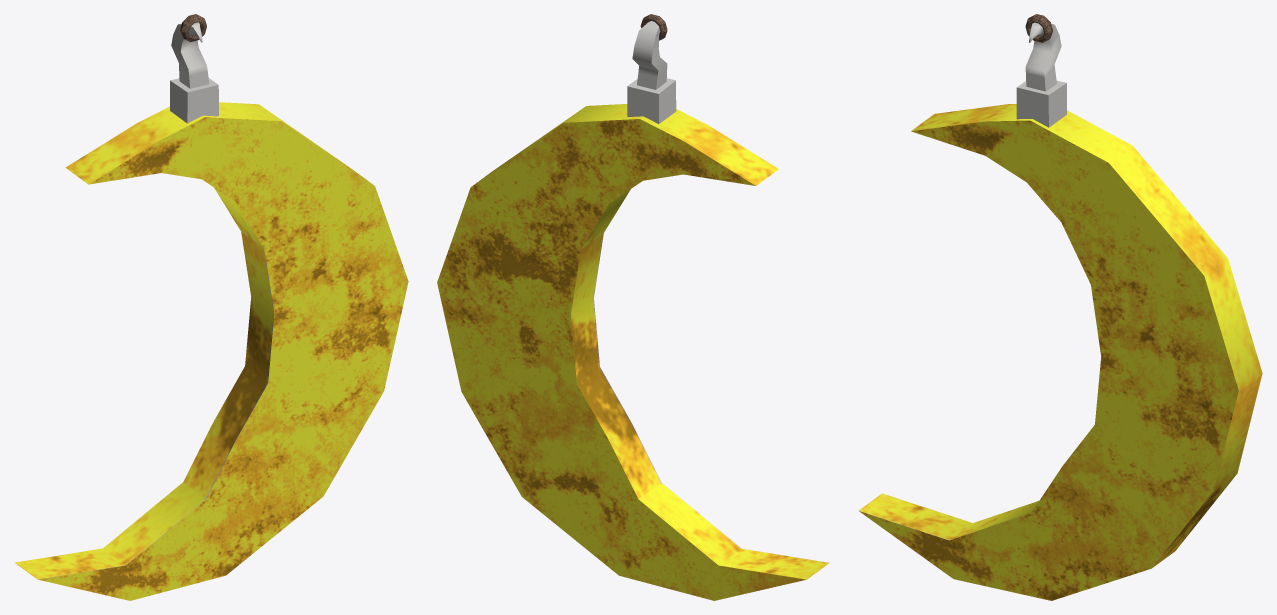
Rendered from Luna 1.fbx.
The picture shows the model from 3 angles, left to right: view 1: azimuth 30°, elevation 25°; view 2: azimuth 150°, elevation 25°; view 3: azimuth 330°, elevation 25°; orthographic projection. The views are drawn at different scales.
Parts seen in each view (by area): view 1: Plane.015, Cube.018; view 2: Plane.015, Cube.018; view 3: Plane.015, Cube.018.
Part boxes in pixels (x1=…): Plane.015: x1=15, y1=102, x2=408, y2=600; Cube.018: x1=170, y1=22, x2=218, y2=123; Plane.015: x1=437, y1=104, x2=829, y2=600; Cube.018: x1=627, y1=21, x2=676, y2=123; Plane.015: x1=858, y1=104, x2=1262, y2=600; Cube.018: x1=1016, y1=22, x2=1066, y2=127.
Bounding box in the file's own units: 327 × 472 × 35.41.
Materials: 3 (3 with a texture image).
